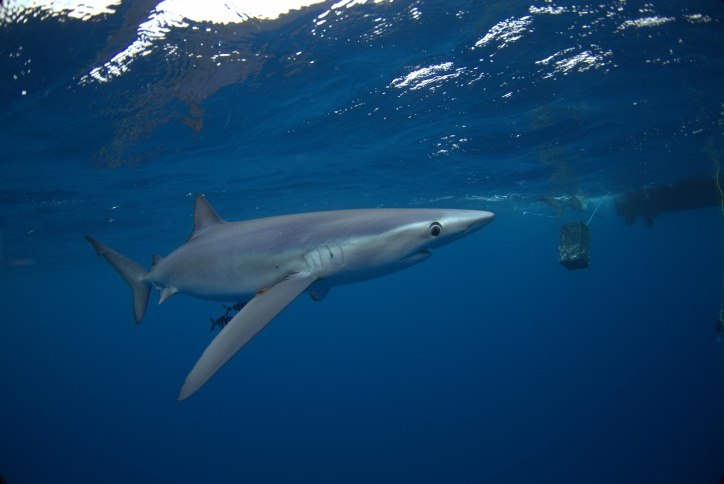Azul: (78, 171, 515, 415)
